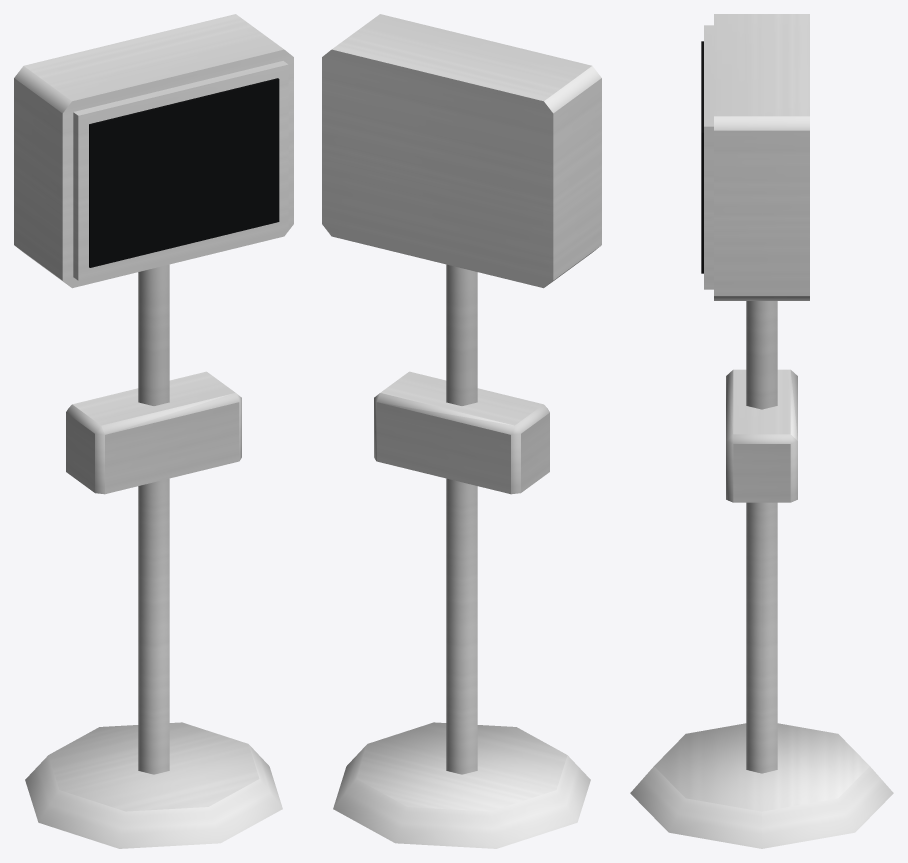
File: vitals_monitor.obj
The picture shows the model from 3 angles, left to right: view 1: azimuth 30°, elevation 25°; view 2: azimuth 150°, elevation 25°; view 3: azimuth 270°, elevation 25°; orthographic projection.
Parts seen in each view (by area): view 1: retained_26, monitor_housing, retained_0, mid_pole_housing, retained_9, retained_21; view 2: monitor_housing, retained_0, mid_pole_housing, retained_9; view 3: monitor_housing, retained_0, retained_9, mid_pole_housing, retained_21, retained_26.
Part boxes in pixels (x1=…): retained_26: x1=89, y1=78, x2=279, y2=267; monitor_housing: x1=14, y1=14, x2=293, y2=288; retained_0: x1=25, y1=722, x2=282, y2=848; mid_pole_housing: x1=66, y1=371, x2=241, y2=494; retained_9: x1=138, y1=264, x2=169, y2=774; retained_21: x1=73, y1=61, x2=288, y2=280; monitor_housing: x1=322, y1=14, x2=601, y2=288; retained_0: x1=333, y1=722, x2=590, y2=848; mid_pole_housing: x1=374, y1=371, x2=549, y2=494; retained_9: x1=446, y1=264, x2=477, y2=774; monitor_housing: x1=714, y1=14, x2=809, y2=300; retained_0: x1=630, y1=723, x2=893, y2=848; retained_9: x1=746, y1=301, x2=777, y2=773; mid_pole_housing: x1=726, y1=369, x2=797, y2=502; retained_21: x1=704, y1=25, x2=713, y2=289; retained_26: x1=701, y1=41, x2=703, y2=273.
Size of the model in its own units: 0.44 by 1.34 by 0.44.
